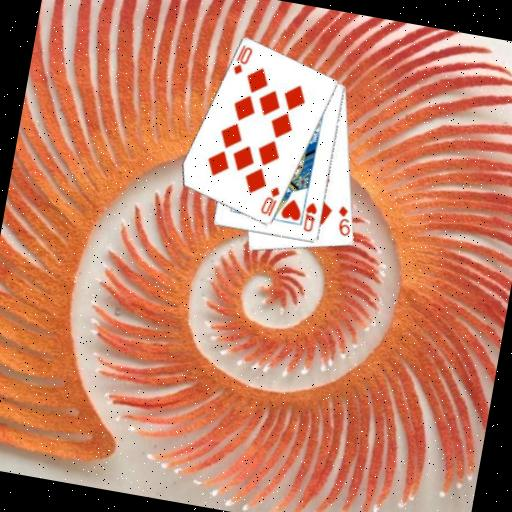10D: (229, 40, 255, 78), (256, 182, 282, 219)
9D: (331, 202, 356, 238)
QH: (299, 198, 320, 234)
